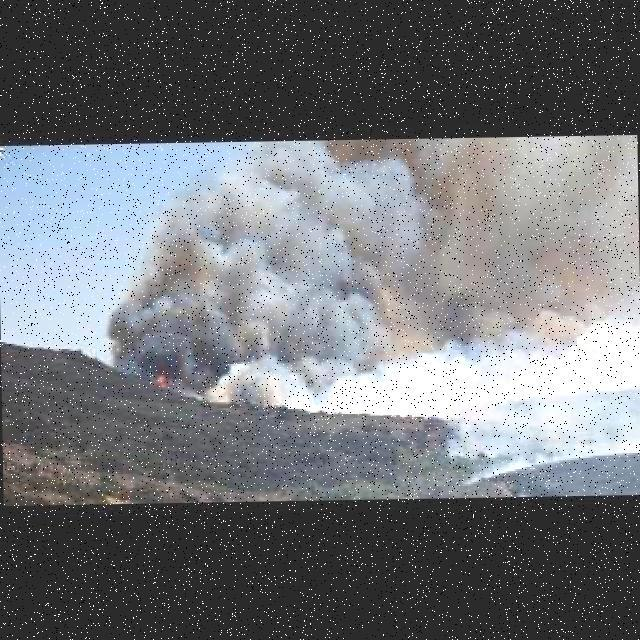Fire: (155, 369, 169, 385)
Smoke: (88, 140, 617, 379)
